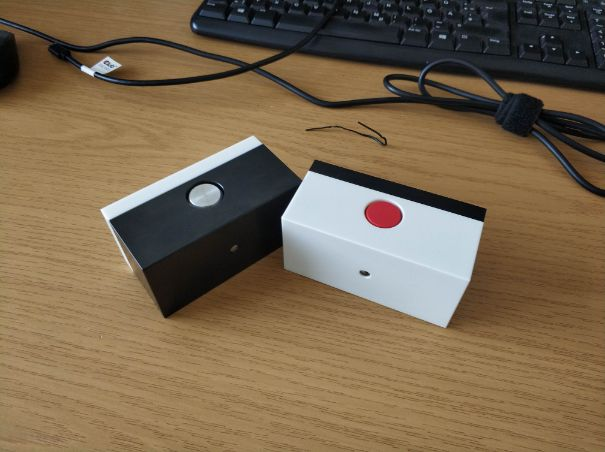black+white+red: (276, 155, 490, 335)
white+black+silver: (97, 133, 307, 321)
